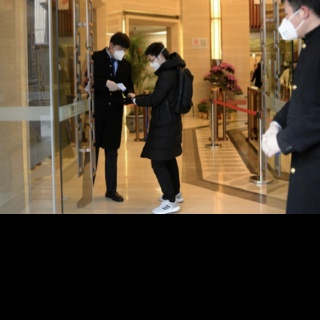with_mask: (278, 6, 301, 43), (112, 46, 127, 62), (148, 58, 160, 70), (284, 60, 288, 67)
